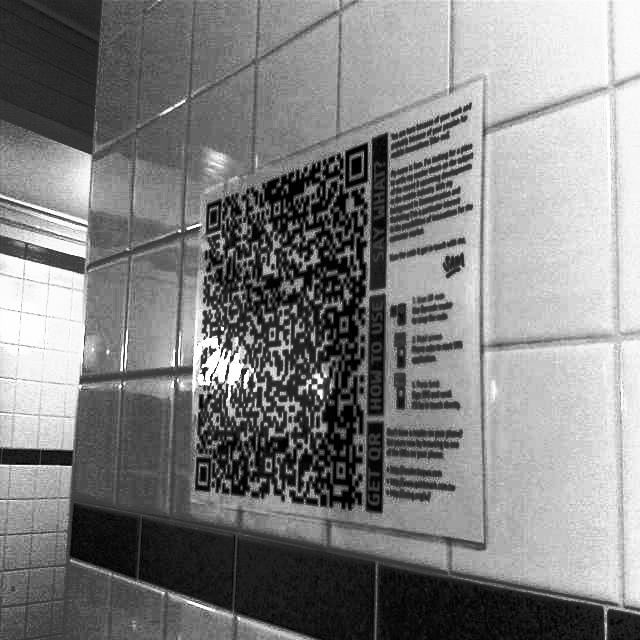qr_code: (195, 144, 367, 511)
